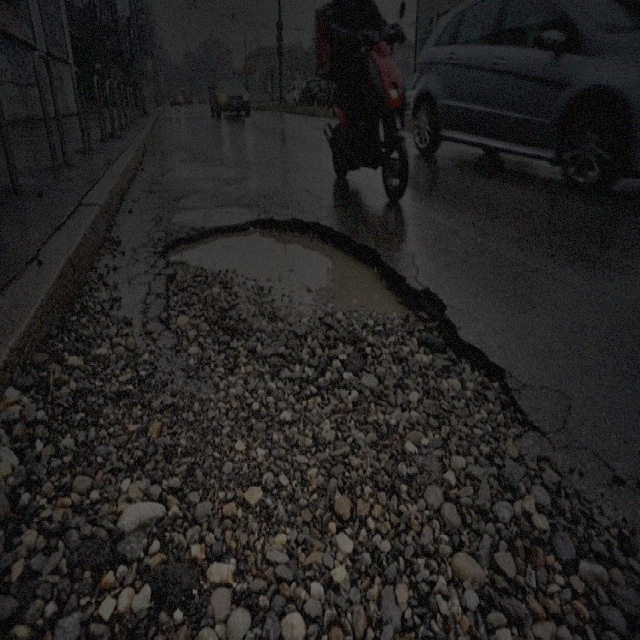pothole: (160, 209, 453, 362)
